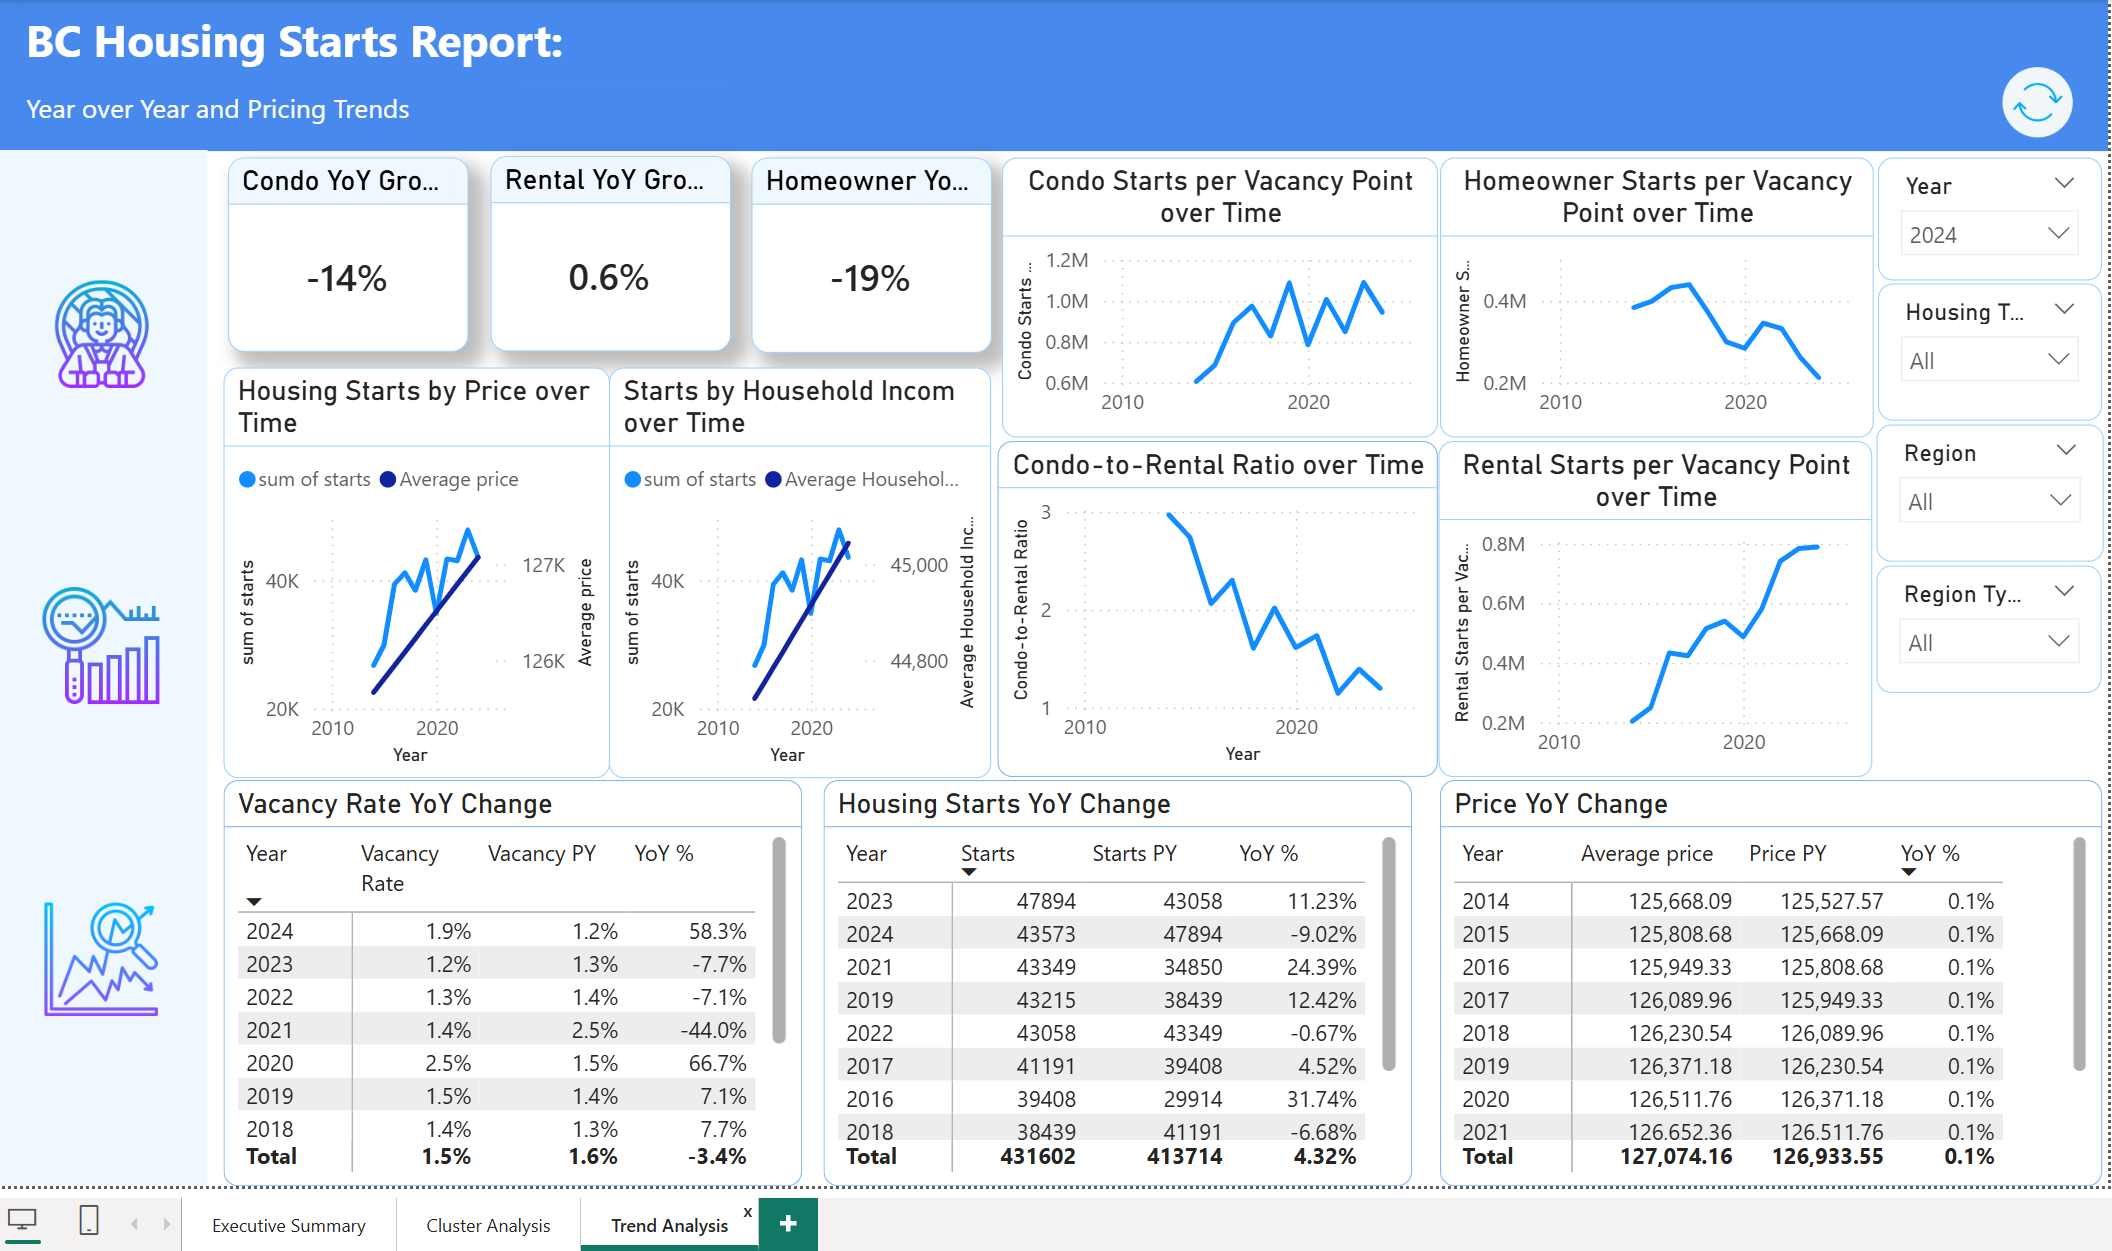

The page's visual inventory and layout, read from the dashboard file:
{"tool":"powerbi","page":{"name":"Trend Analysis","canvas":[1280,720],"ordinal":2},"visuals":[{"type":"group","id":"g1","title":"Group 6","box":[0,0,1280,91.7],"z":0,"group":"g4"},{"type":"image","box":[1215.7,40.3,42.7,43.7],"z":0,"group":"g3"},{"type":"lineChart","title":"Rental Starts per Vacancy Point over Time","fields":{"Category":["Date Table_.Year"],"Y":["Measures Table.Rental Starts per Vacancy Point"]},"box":[873,267.5,263.5,204.2],"z":0},{"type":"image","box":[26.1,533.3,69.8,99.8],"z":0,"group":"g6"},{"type":"group","id":"g2","title":"Group 6","box":[9.6,10,175.2,60.2],"z":1000},{"type":"group","id":"g3","title":"Group 5","box":[1215.7,40.3,42.7,43.7],"z":1000,"group":"g4"},{"type":"actionButton","box":[16.5,527.7,83.7,111.3],"z":1000,"group":"g6"},{"type":"lineChart","title":"Condo-to-Rental Ratio over Time","fields":{"Category":["Date Table_.Year"],"Y":["Measures Table.Condo-to-Rental Ratio"]},"box":[605.5,267.5,267.5,204.2],"z":2000},{"type":"cardVisual","title":"Condo YoY Growth","fields":{"Data":["Measures Table.Condo YoY Growth (%)"]},"box":[138.8,95.5,145.8,117.7],"z":3000},{"type":"group","id":"g4","title":"Group 7","box":[0,0,1280,91.7],"z":4000},{"type":"shape","box":[0,0,1280,91.7],"z":4000,"group":"g1"},{"type":"textbox","box":[10.1,0,433.5,49.3],"z":5000,"group":"g1"},{"type":"textbox","box":[9.6,10,175.2,60.2],"z":5000,"group":"g2"},{"type":"cardVisual","title":"Rental YoY Growth","fields":{"Data":["Measures Table.Rental YoY Growth (%)"]},"box":[297.7,94.5,145.8,118.7],"z":5000},{"type":"shape","box":[0,91.3,126.3,629.3],"z":6000,"group":"g5"},{"type":"cardVisual","title":"Homeowner YoY Growth","fields":{"Data":["Measures Table.Homeowner YoY Growth (%)"]},"box":[456.6,95.5,145.8,118.7],"z":6000},{"type":"slicer","fields":{"Values":["DimHousing Type.Housing Type"]},"box":[1140.5,172,135.8,83.5],"z":7000},{"type":"lineChart","title":"Condo Starts per Vacancy Point over Time","fields":{"Category":["Date Table_.Year"],"Y":["Measures Table.Condo Starts per Vacancy Point"]},"box":[608.5,95.5,264.5,170],"z":8000},{"type":"slicer","fields":{"Values":["Date Table_.Year"]},"box":[1140.5,95.5,135.8,74.4],"z":9000},{"type":"group","id":"g5","title":"Group 8","box":[0,91.3,126.3,629.3],"z":10000},{"type":"slicer","fields":{"Values":["DimRegion.Region"]},"box":[1139.5,257.5,137.8,83.5],"z":11000},{"type":"lineChart","title":"Homeowner Starts per Vacancy Point over Time","fields":{"Category":["Date Table_.Year"],"Y":["Measures Table.Homeowner Starts per Vacancy Point"]},"box":[874,95.5,263.5,170],"z":12000},{"type":"slicer","fields":{"Values":["DimRegion Type.Region Type"]},"box":[1139.5,343,136.8,77.4],"z":13000},{"type":"lineChart","title":"Housing Starts by Price over Time","fields":{"Category":["Date Table_.Year"],"Y":["Measures Table.sum of starts"],"Y2":["Measures Table.Average price"]},"box":[135.8,223.3,234.3,249.4],"z":14000},{"type":"group","id":"g6","title":"Group 1","box":[16.5,527.7,83.7,111.3],"z":14000,"group":"g5"},{"type":"group","id":"g7","title":"Group 2","box":[19.8,335.7,82.4,108.3],"z":15000,"group":"g5"},{"type":"pivotTable","title":"Housing Starts YoY Change","fields":{"Values":["Measures Table.sum of starts","Measures Table.Starts PY","Measures Table.Starts YoY Change (%)"],"Rows":["Date Table_.Year"]},"box":[499.9,473.6,357,246.4],"z":15000},{"type":"group","id":"g8","title":"Group 3","box":[20.9,149.3,82.4,99.6],"z":16000,"group":"g5"},{"type":"image","box":[28.8,157.9,65.3,91],"z":16000,"group":"g8"},{"type":"image","box":[24.4,341,73.2,103],"z":16000,"group":"g7"},{"type":"pivotTable","title":"Vacancy Rate YoY Change","fields":{"Rows":["Date Table_.Year"],"Values":["Measures Table.Vacancy Rate (current selection)","Measures Table.Vacancy PY","Measures Table.YoY Vacancy Rate"]},"box":[135.8,473.7,351,246.4],"z":16000},{"type":"lineChart","title":"Starts by Household Incom over Time","fields":{"Category":["Date Table_.Year"],"Y":["Measures Table.sum of starts"],"Y2":["Measures Table.Average Household Income"]},"box":[370.1,223.3,232.3,249.4],"z":17000},{"type":"actionButton","box":[19.8,335.7,82.4,104.2],"z":17003,"group":"g7"},{"type":"actionButton","box":[20.9,149.3,82.4,97],"z":18000,"group":"g8"},{"type":"pivotTable","title":"Price YoY Change","fields":{"Rows":["Date Table_.Year"],"Values":["Measures Table.Average price","Measures Table.Price PY","Measures Table.Price YoY Change (%)"]},"box":[874,473.7,402.3,246.4],"z":18000},{"type":"actionButton","box":[1207.5,31.1,62.1,59.5],"z":19000},{"type":"textbox","box":[11.3,49.6,303.4,35],"z":20000}]}

Visuals, with their boxes on the page's 1280x720 design canvas (x1, y1, x2, y2). These are canvas units, not pixel positions in the 2112x1251 screenshot, which may show the page scaled, cropped or inside an application window:
"Group 6" group: [x1=0, y1=0, x2=1280, y2=92]
image: [x1=1216, y1=40, x2=1258, y2=84]
"Rental Starts per Vacancy Point over Time" lineChart: [x1=873, y1=268, x2=1136, y2=472]
image: [x1=26, y1=533, x2=96, y2=633]
"Group 6" group: [x1=10, y1=10, x2=185, y2=70]
"Group 5" group: [x1=1216, y1=40, x2=1258, y2=84]
actionButton: [x1=16, y1=528, x2=100, y2=639]
"Condo-to-Rental Ratio over Time" lineChart: [x1=606, y1=268, x2=873, y2=472]
"Condo YoY Growth" cardVisual: [x1=139, y1=96, x2=285, y2=213]
"Group 7" group: [x1=0, y1=0, x2=1280, y2=92]
shape: [x1=0, y1=0, x2=1280, y2=92]
textbox: [x1=10, y1=0, x2=444, y2=49]
textbox: [x1=10, y1=10, x2=185, y2=70]
"Rental YoY Growth" cardVisual: [x1=298, y1=94, x2=444, y2=213]
shape: [x1=0, y1=91, x2=126, y2=721]
"Homeowner YoY Growth" cardVisual: [x1=457, y1=96, x2=602, y2=214]
slicer - DimHousing Type.Housing Type: [x1=1140, y1=172, x2=1276, y2=256]
"Condo Starts per Vacancy Point over Time" lineChart: [x1=608, y1=96, x2=873, y2=266]
slicer - Date Table_.Year: [x1=1140, y1=96, x2=1276, y2=170]
"Group 8" group: [x1=0, y1=91, x2=126, y2=721]
slicer - DimRegion.Region: [x1=1140, y1=258, x2=1277, y2=341]
"Homeowner Starts per Vacancy Point over Time" lineChart: [x1=874, y1=96, x2=1138, y2=266]
slicer - DimRegion Type.Region Type: [x1=1140, y1=343, x2=1276, y2=420]
"Housing Starts by Price over Time" lineChart: [x1=136, y1=223, x2=370, y2=473]
"Group 1" group: [x1=16, y1=528, x2=100, y2=639]
"Group 2" group: [x1=20, y1=336, x2=102, y2=444]
"Housing Starts YoY Change" pivotTable: [x1=500, y1=474, x2=857, y2=720]
"Group 3" group: [x1=21, y1=149, x2=103, y2=249]
image: [x1=29, y1=158, x2=94, y2=249]
image: [x1=24, y1=341, x2=98, y2=444]
"Vacancy Rate YoY Change" pivotTable: [x1=136, y1=474, x2=487, y2=720]
"Starts by Household Incom over Time" lineChart: [x1=370, y1=223, x2=602, y2=473]
actionButton: [x1=20, y1=336, x2=102, y2=440]
actionButton: [x1=21, y1=149, x2=103, y2=246]
"Price YoY Change" pivotTable: [x1=874, y1=474, x2=1276, y2=720]
actionButton: [x1=1208, y1=31, x2=1270, y2=91]
textbox: [x1=11, y1=50, x2=315, y2=85]
